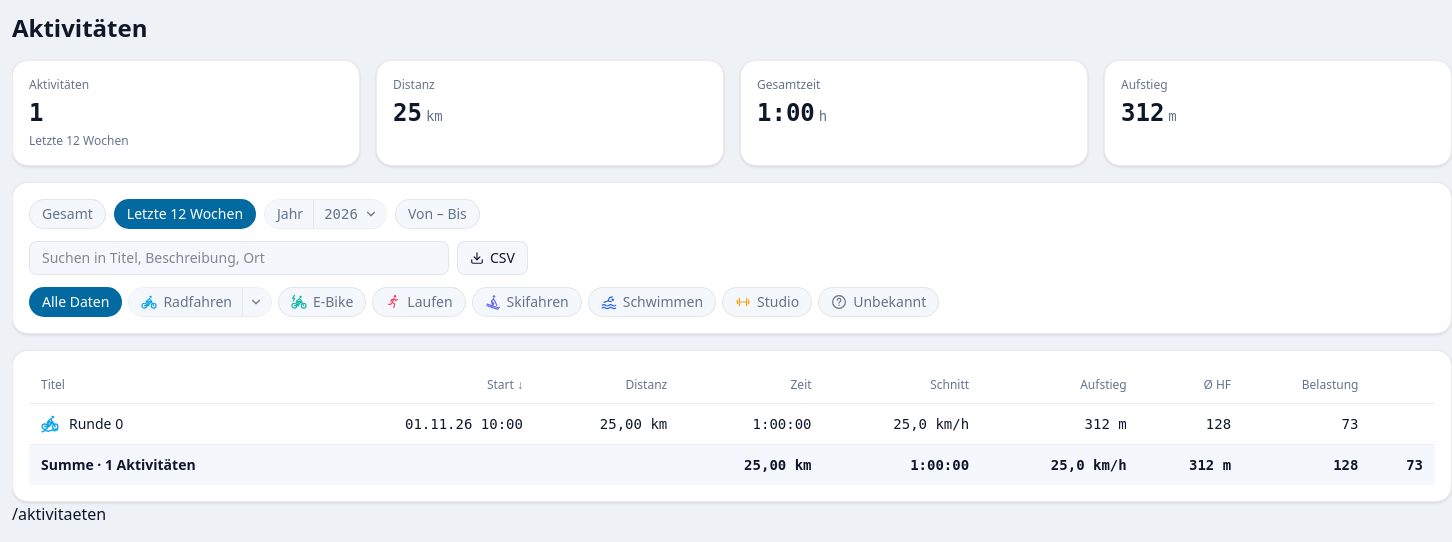
Test: Aktivitätenliste › Suche geht nach der Tipp-Pause an die API
Expected: the link "Runde 0" is shown, [69,414,123,434]
Type "Wald" into the search field at [239, 258], box [29,241,449,275]
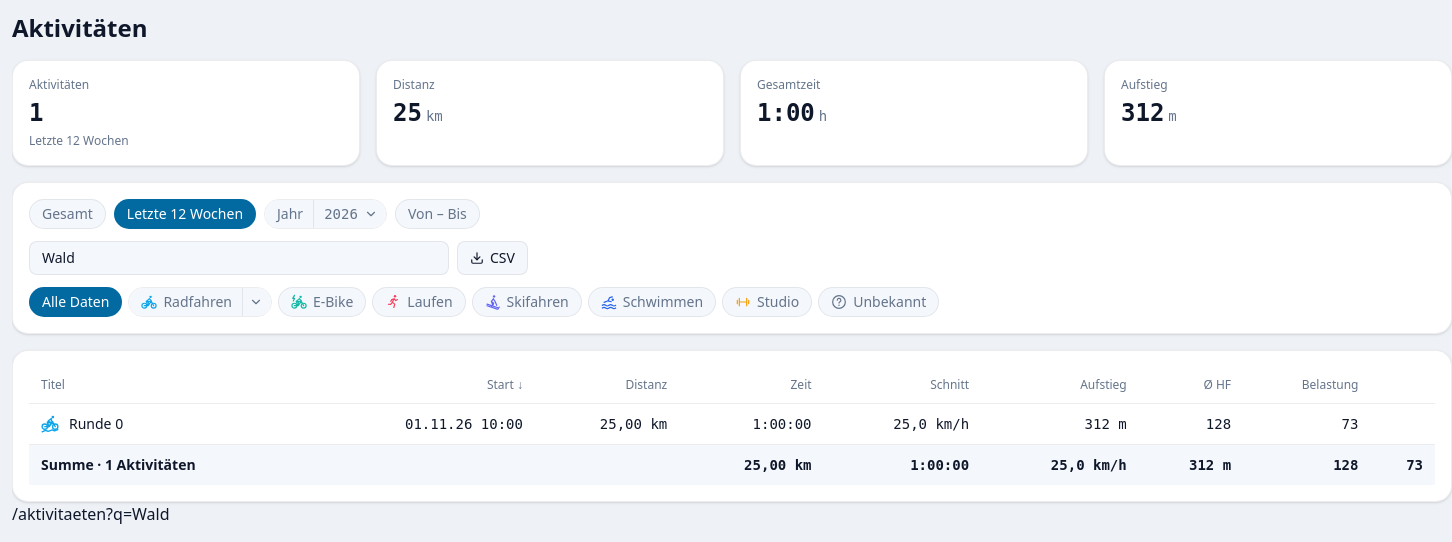
Result: the text with test id "where" reads "/aktivitaeten?q=Wald" at [12,503,170,525]
